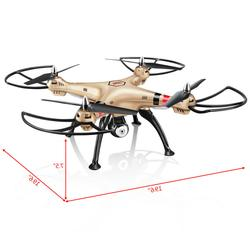drone: (3, 55, 248, 171)
